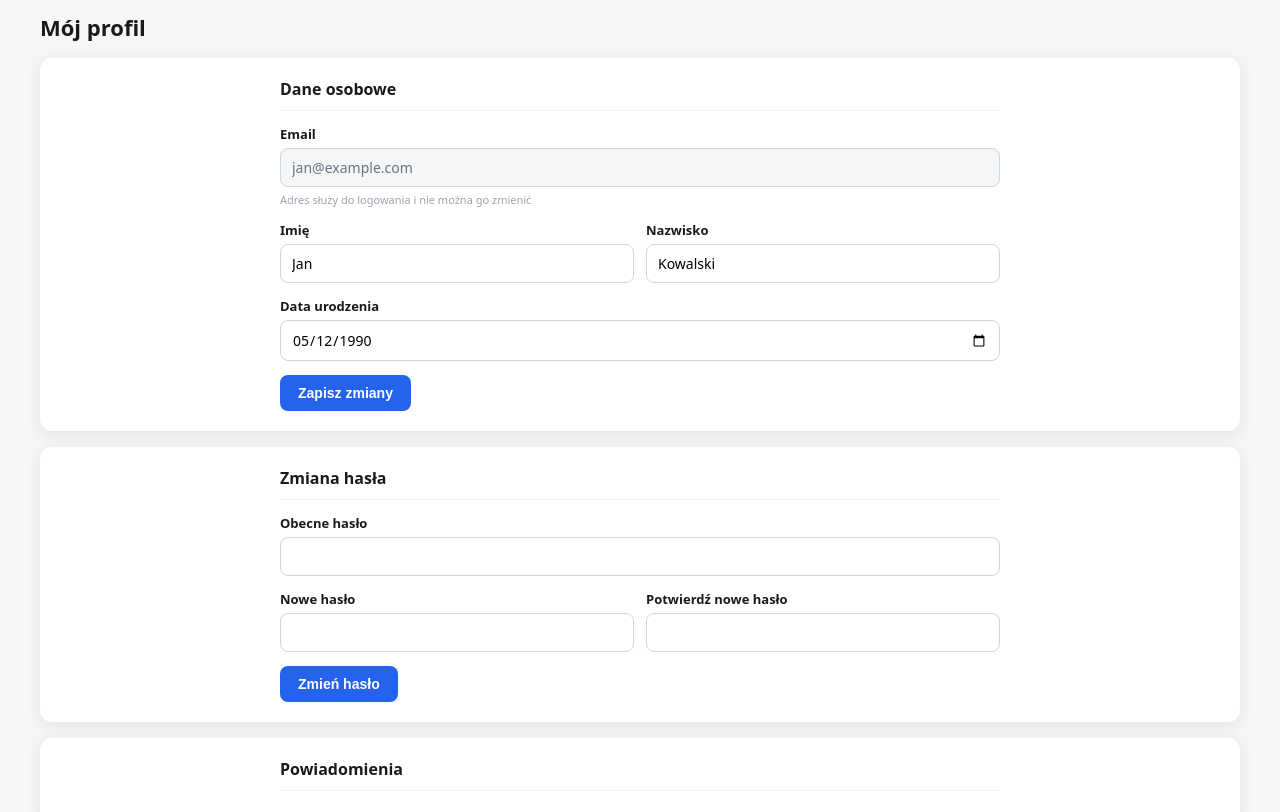
Test: ProfilePage › zapisuje dane osobowe i potwierdza komunikatem
The width and height of the screenshot is (1280, 812).
Replace the text in the field labelled "Imię" with "Janusz" at point(457, 264), box [280,244,634,283]
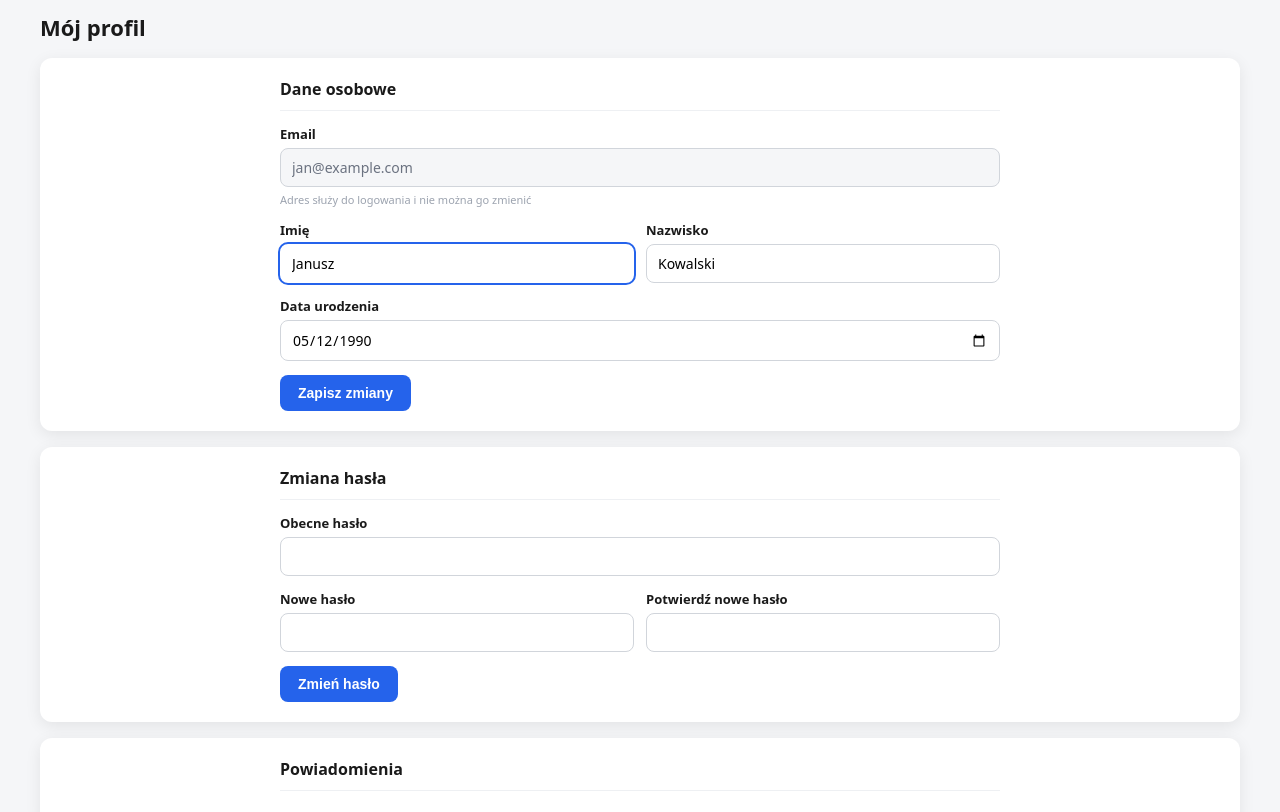
Click the button "Zapisz zmiany" at point(345, 393), box [280,375,411,411]
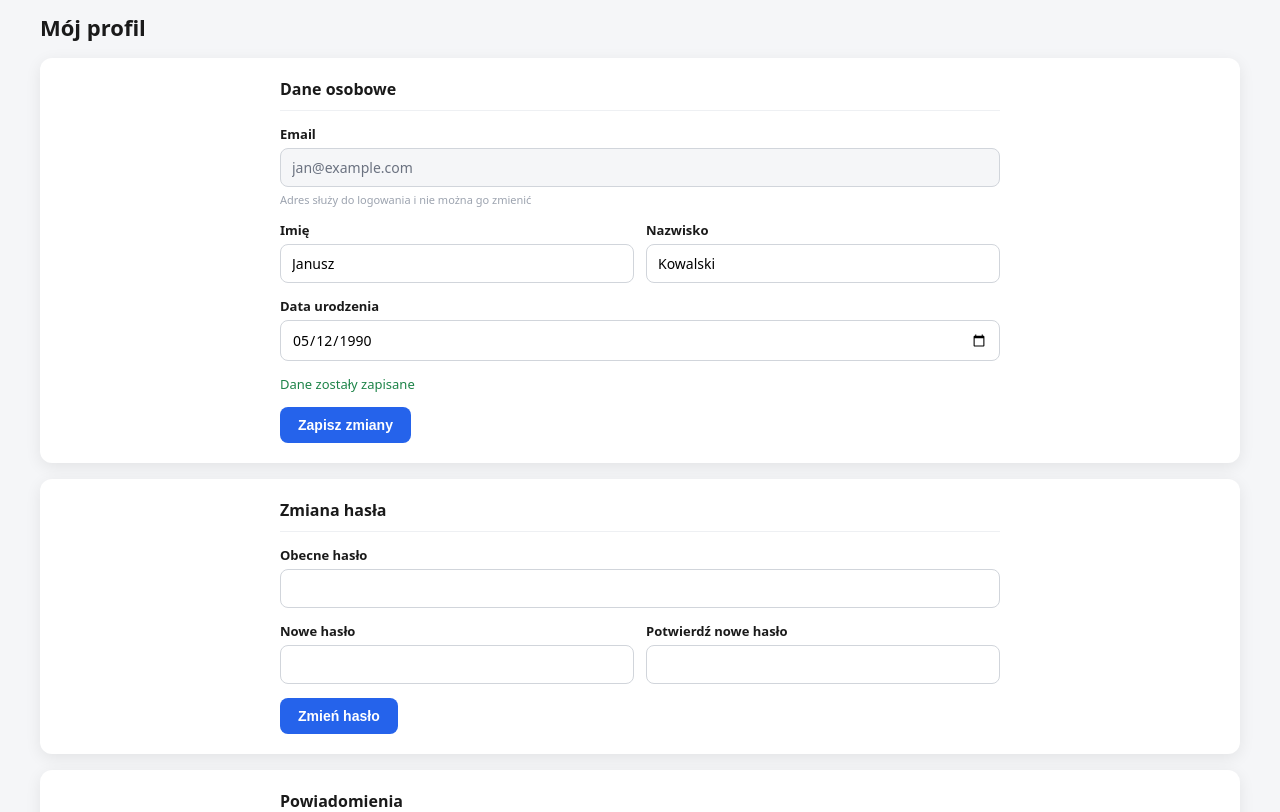
Expected: the text "Dane zostały zapisane" is shown, [280,375,415,393]
